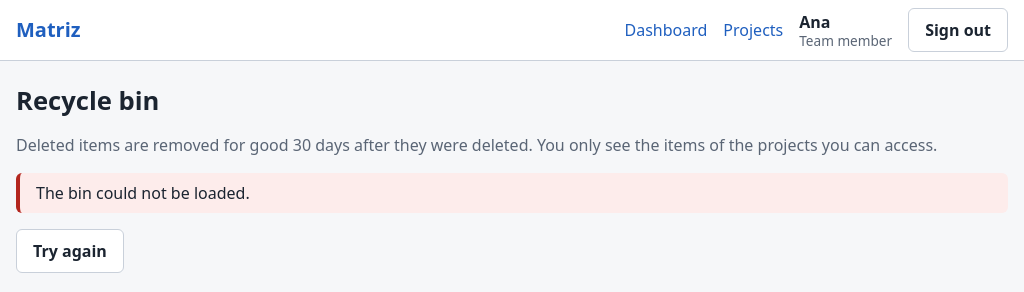
Scenario: the recycle bin (F09, R9, R20) › shows the error of the API and tries again
Expected: the heading "Recycle bin" is shown, [16,83,159,118]
Expected: the message reads "The bin could not be loaded.", [36,182,250,204]
Click the button "Try again" at (70, 251), box [16,229,124,273]
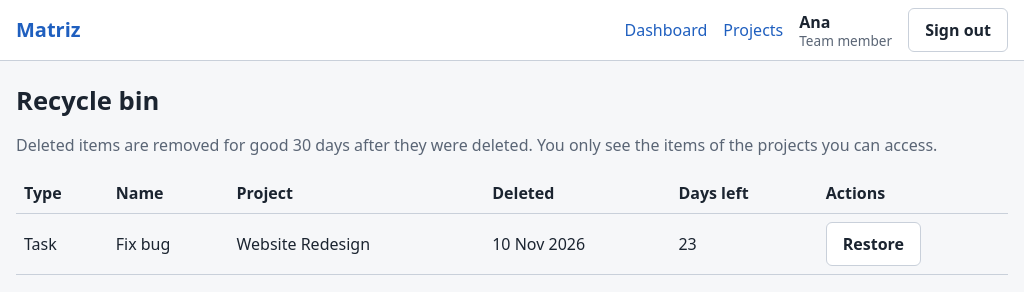
Result: the cell "Fix bug" is shown at [108,214,228,274]
